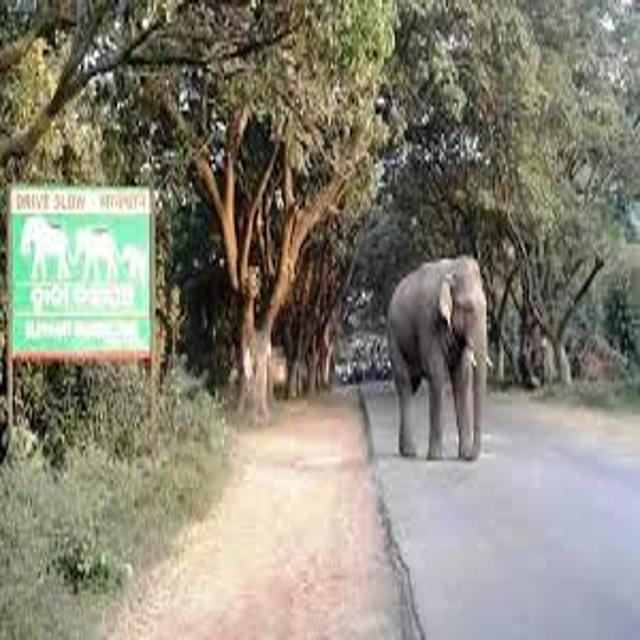elephant: (339, 223, 538, 500)
